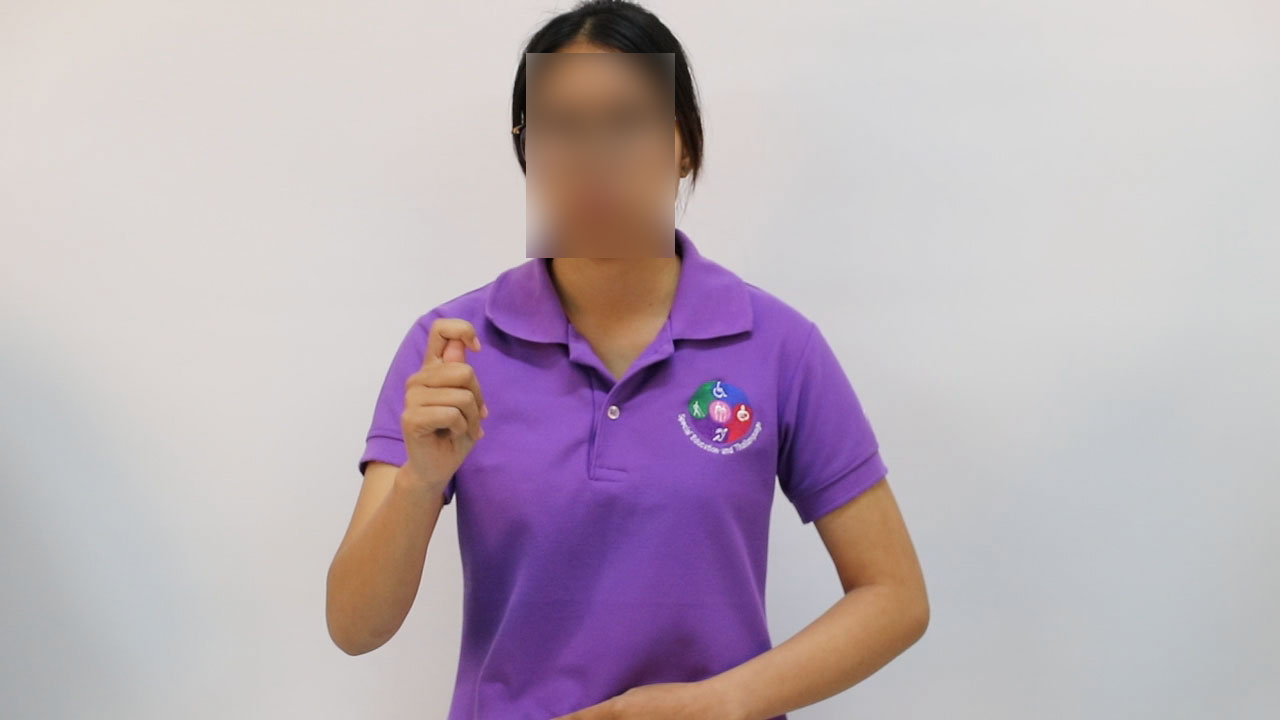or: (396, 314, 490, 496)
